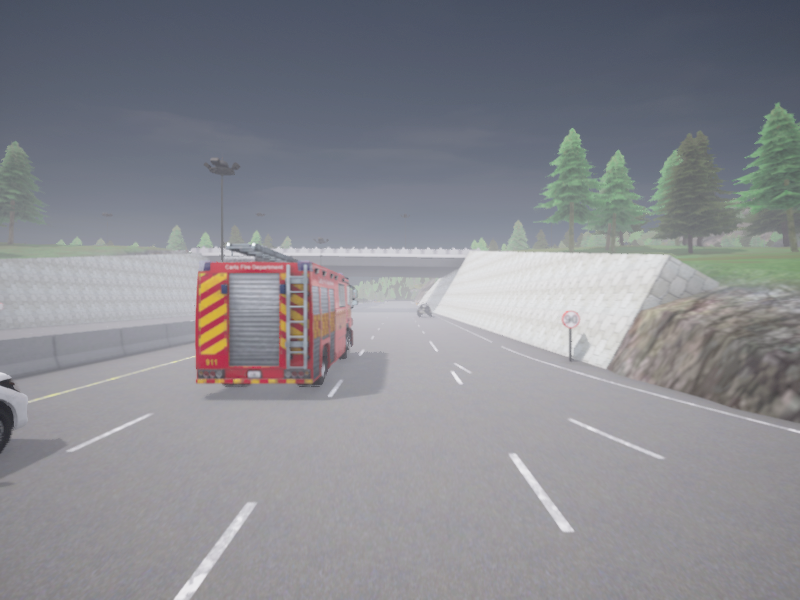vehicle: (195, 243, 357, 385), (0, 372, 27, 453), (417, 304, 431, 316)
